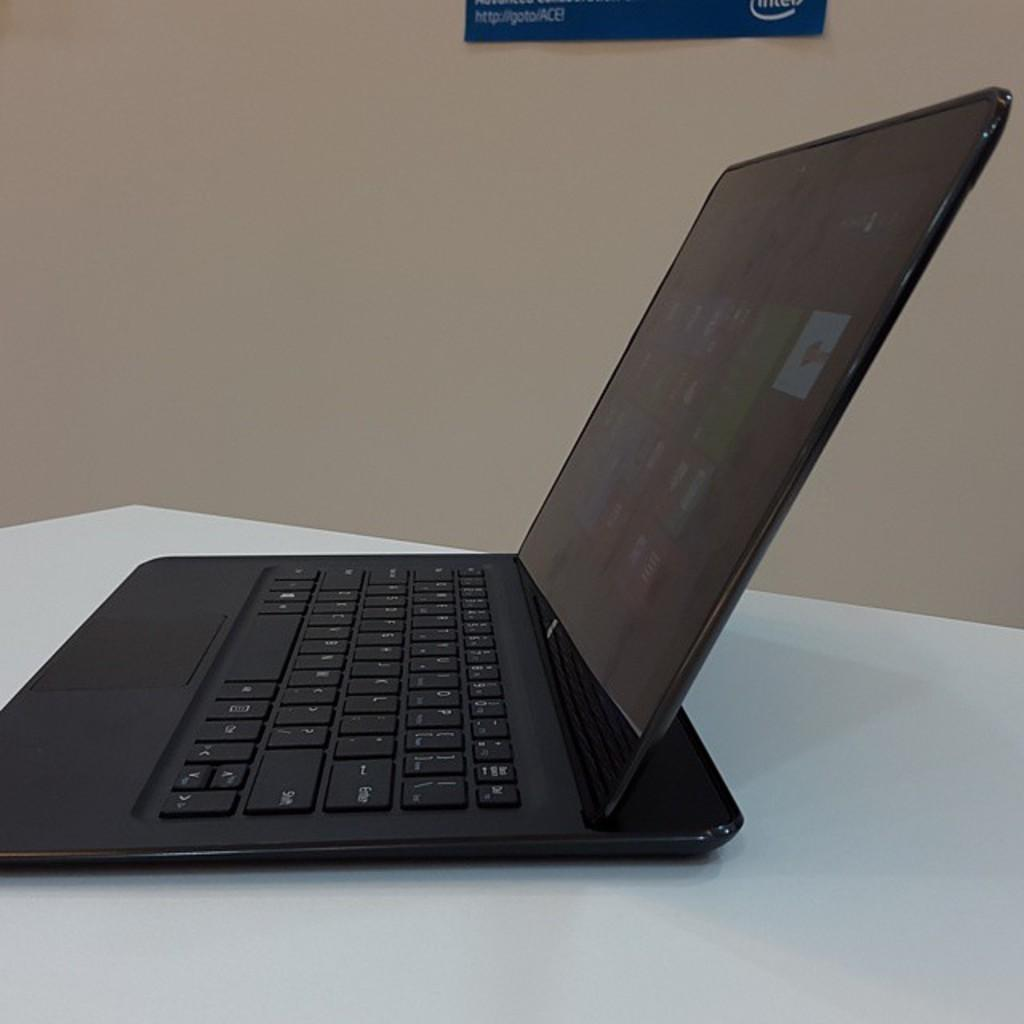Laptop: (50, 42, 976, 885)
